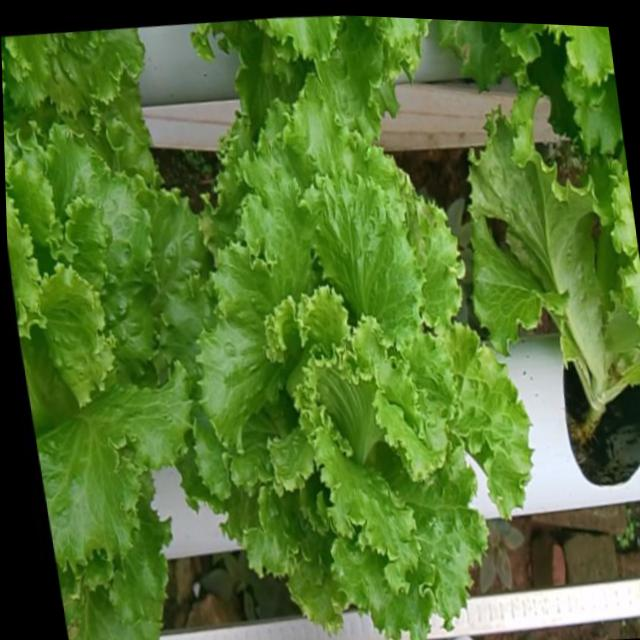Mature: (196, 95, 533, 639), (5, 124, 210, 572)
